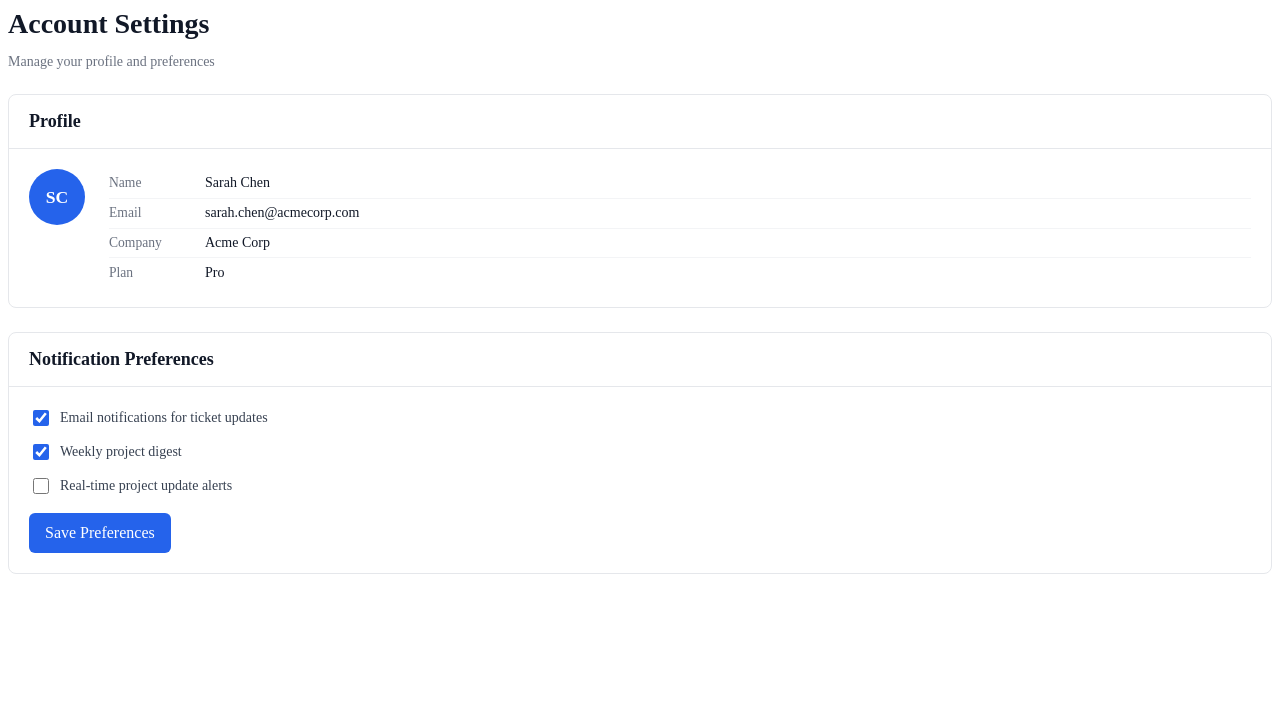
Test case: Portal Account › shows success alert on save
This screenshot has width=1280, height=720.
Click the button "Save Preferences" at (100, 533), box [29, 513, 171, 553]
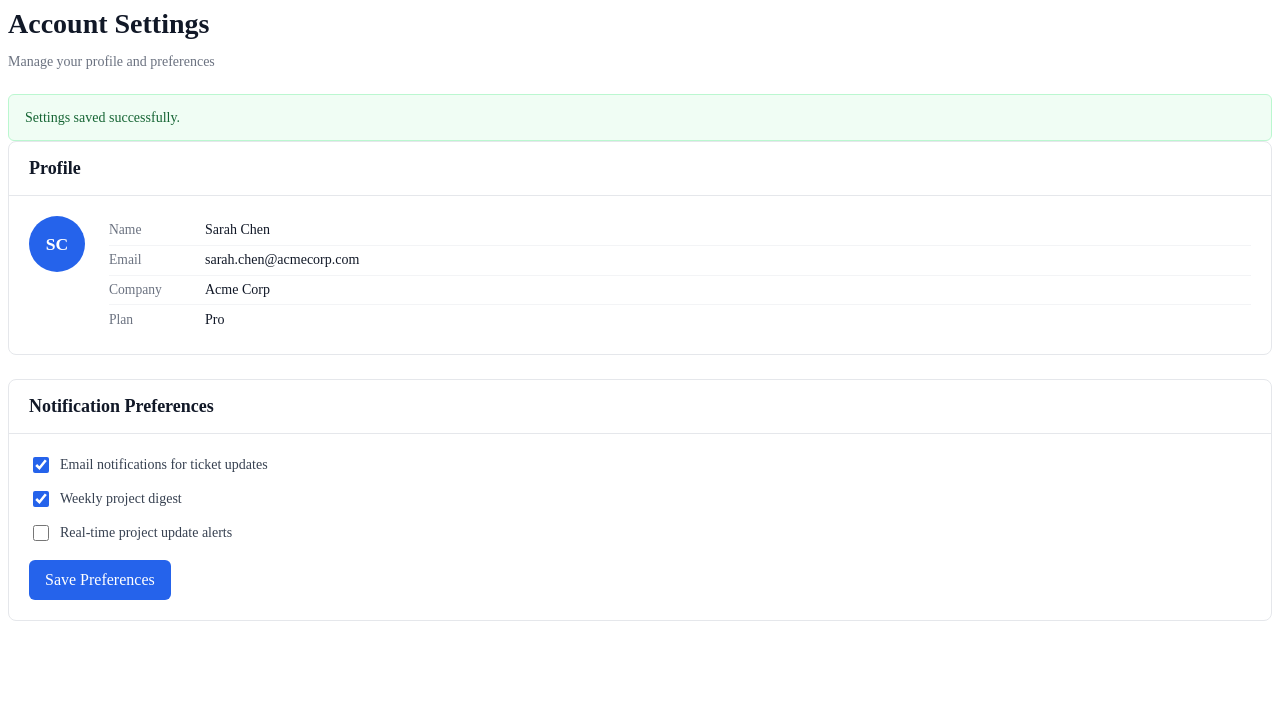
expect the text "Settings saved successfully." is shown: met, box [8, 94, 1272, 141]
